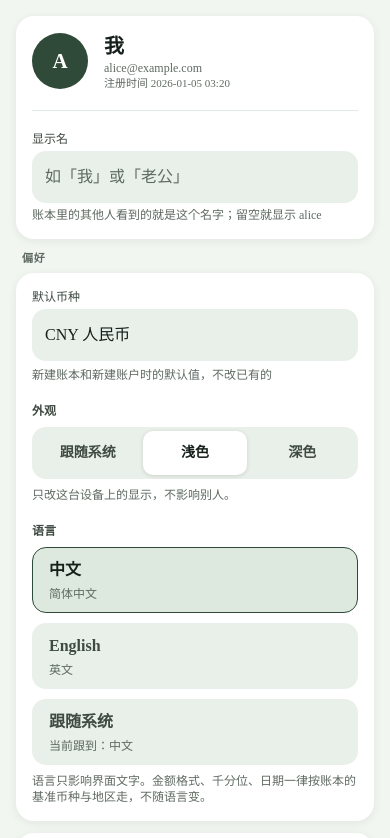
Scenario: a new display name is saved on its own, trimmed
The width and height of the screenshot is (390, 838).
Type " 小王 " into the field with test id "settings-display-name" at coordinates (195, 177), box [45,168,345,186]
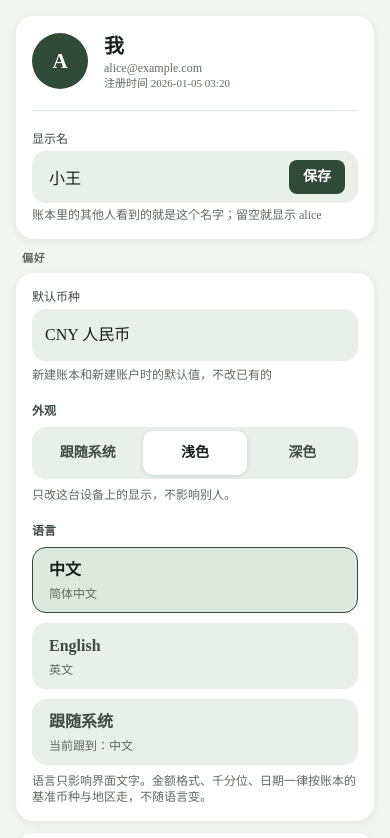
Click the button with test id "settings-display-name-save" at coordinates (317, 177), box [289,160,345,194]
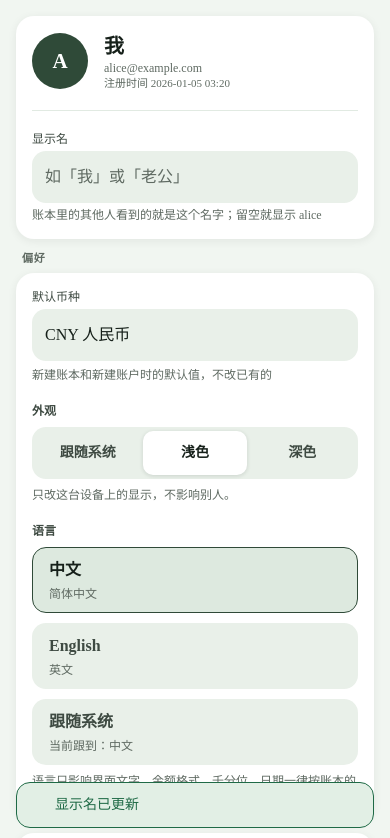
Expected: the element with test id "toast-success" reads "显示名已更新", [55,797,139,812]
